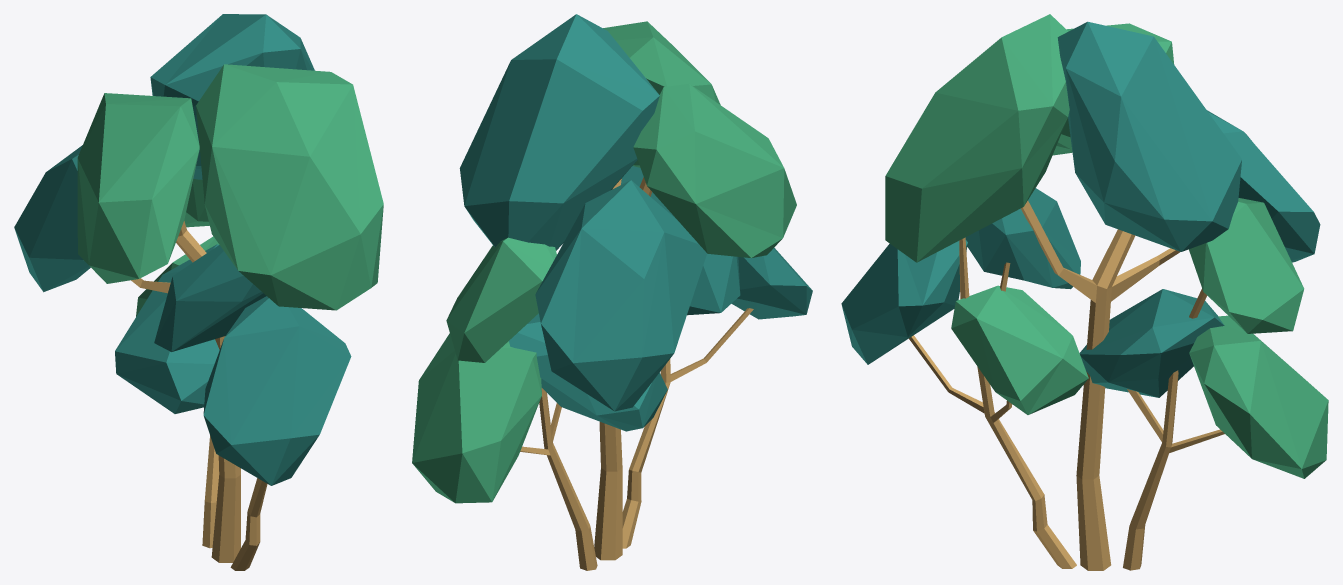
The model's file is Tree_Type3_4.fbx.
3 views of the same model, side by side, from view 1: azimuth 30°, elevation 25°; view 2: azimuth 150°, elevation 25°; view 3: azimuth 270°, elevation 25° (orthographic). The views are drawn at different scales.
Parts seen in each view (by area): view 1: Tree_Type3_4; view 2: Tree_Type3_4; view 3: Tree_Type3_4.
Part boxes in pixels (left/top/right/bottom): Tree_Type3_4: left=14, top=14, right=383, bottom=570; Tree_Type3_4: left=412, top=14, right=812, bottom=570; Tree_Type3_4: left=841, top=14, right=1328, bottom=570.
Bounding box in the file's own units: 233 × 434 × 341.
